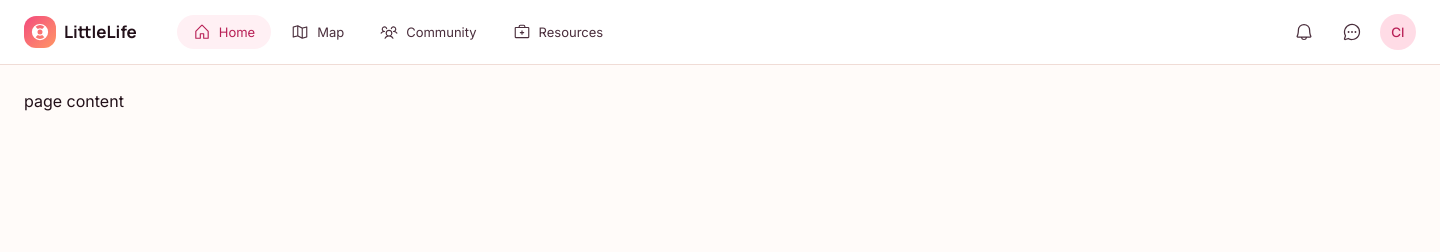
Test: CitizenLayout › navigates to Edit Profile through the account menu
Step 1. Click the button with aria-label "Account menu" → [1398, 32], box [1380, 14, 1416, 50]
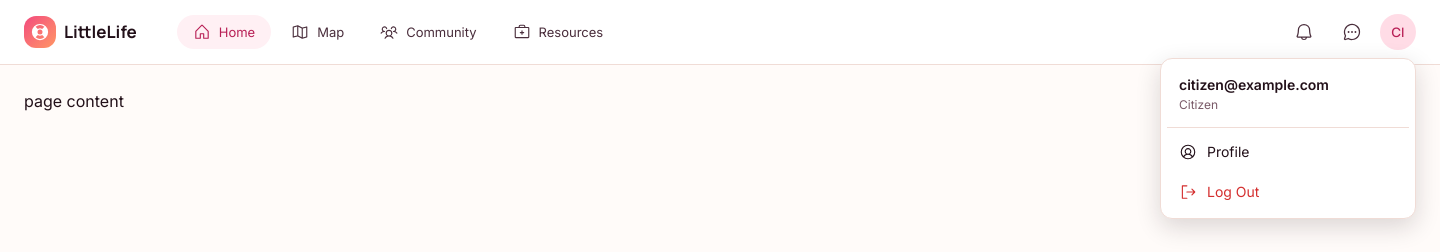
Step 2. Click the menu item "Profile" → [1214, 152], box [1179, 143, 1250, 161]
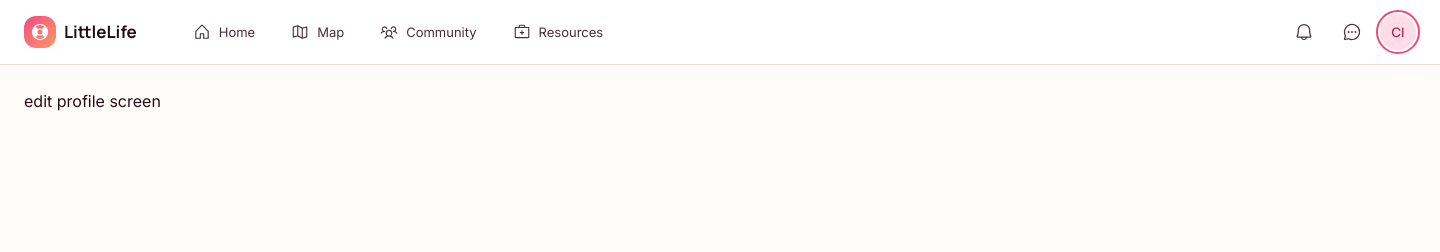
expect the text "edit profile screen" is shown: met, box [24, 91, 161, 111]
